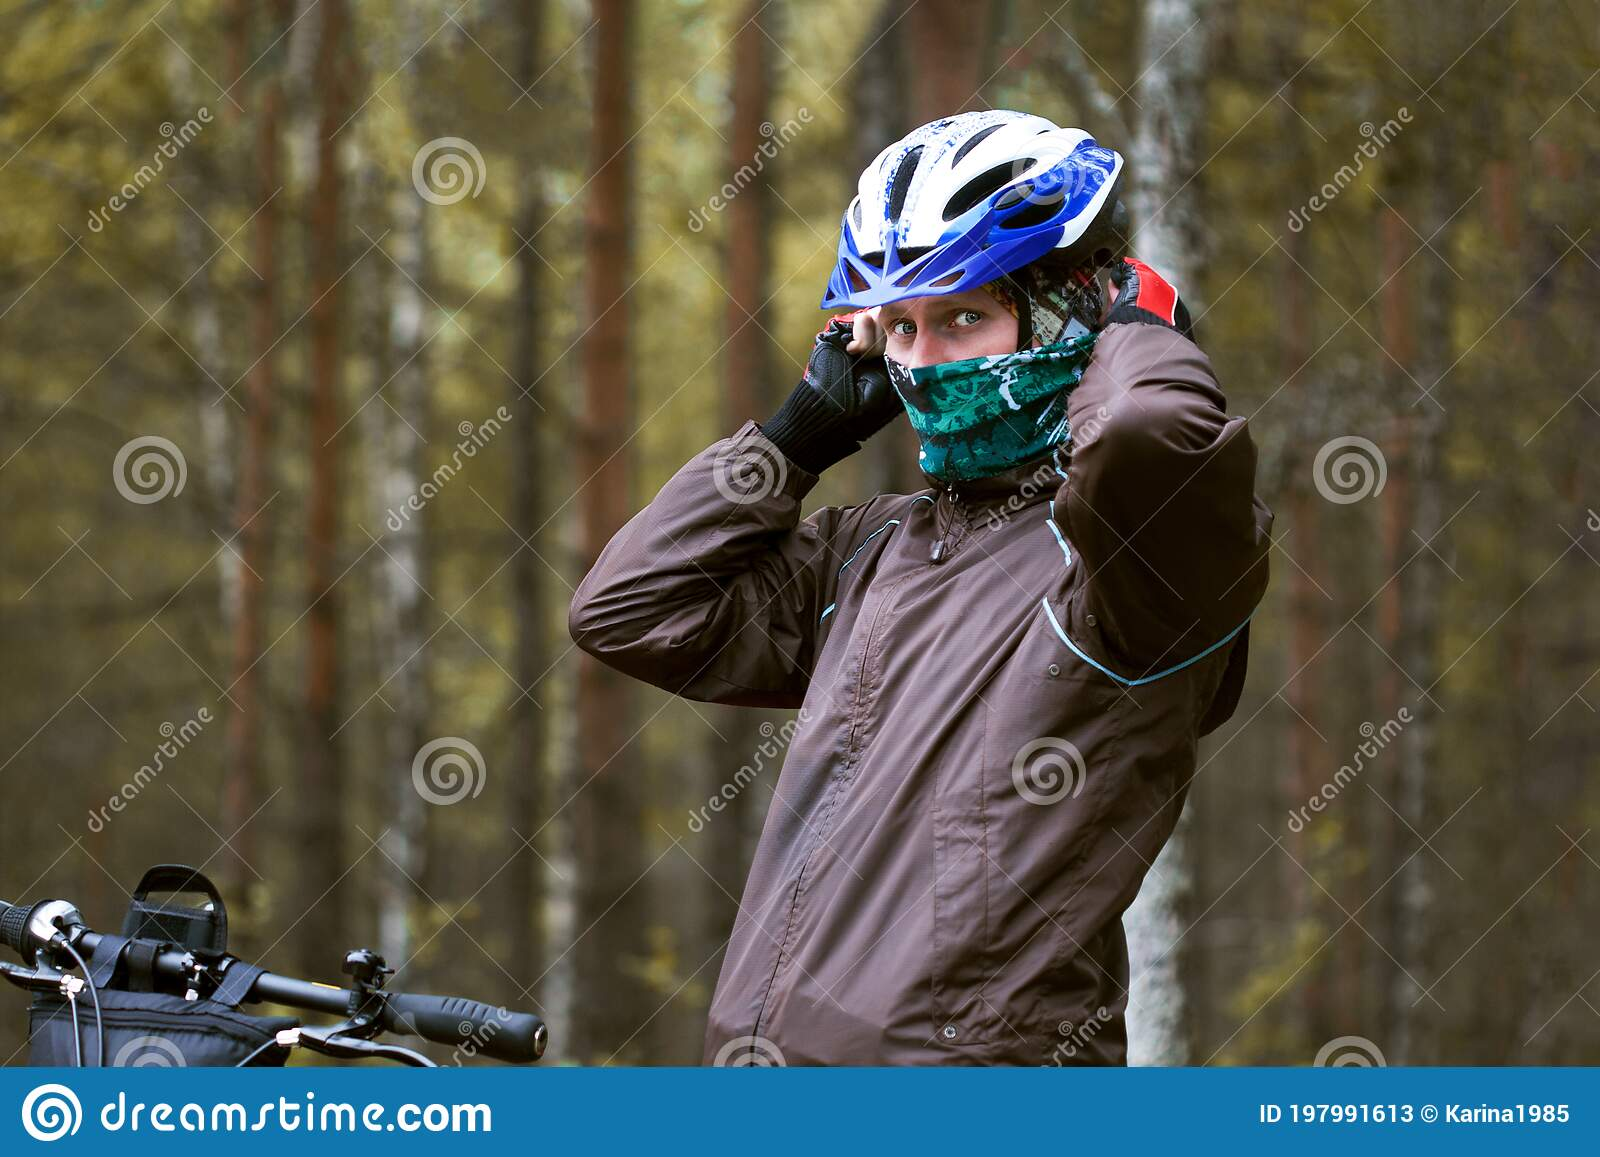helmet: (821, 111, 1128, 482)
